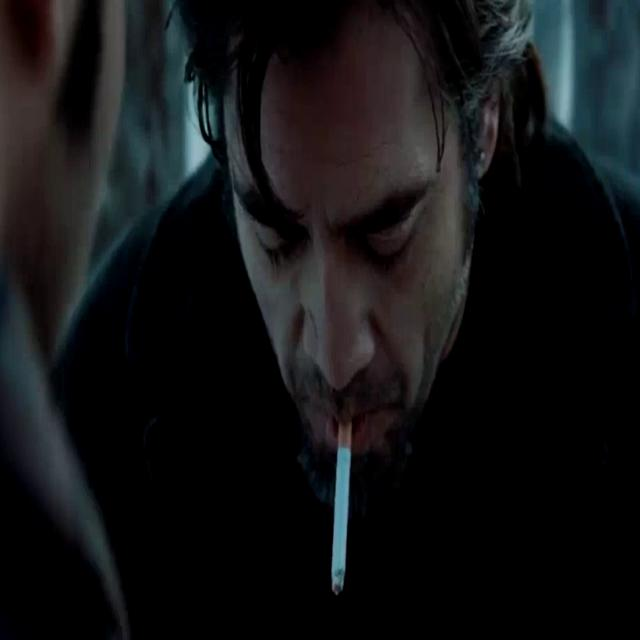Smooking: (324, 414, 359, 600)
